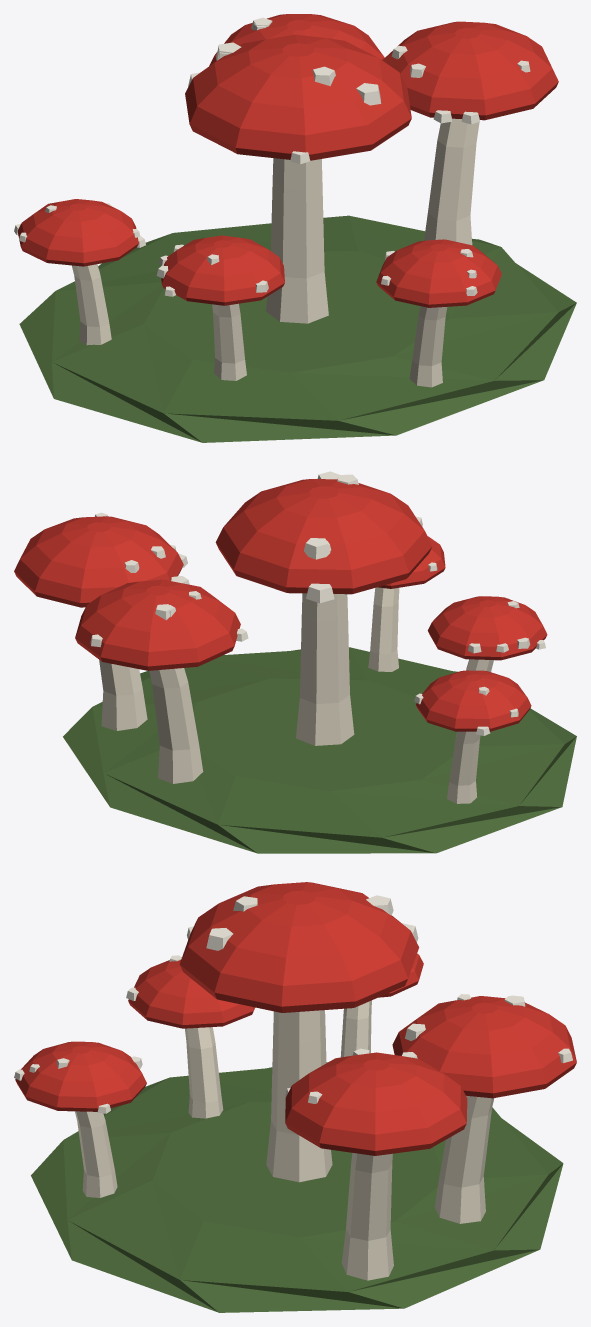
File: mushrooms.glb
The picture shows the model from 3 angles, top to bottom: view 1: azimuth 30°, elevation 25°; view 2: azimuth 150°, elevation 25°; view 3: azimuth 270°, elevation 25°; orthographic projection. The views are drawn at different scales.
Parts seen in each view (by area): view 1: ground, cap, stem, spots; view 2: ground, cap, stem, spots; view 3: ground, cap, stem, spots.
Part boxes in pixels (<box>): ground: <box>19,215,576,442</box>; cap: <box>17,14,558,307</box>; stem: <box>71,118,479,387</box>; spots: <box>14,17,530,296</box>; ground: <box>63,647,576,853</box>; cap: <box>14,479,547,731</box>; stem: <box>99,587,493,803</box>; spots: <box>90,471,545,735</box>; ground: <box>31,1062,563,1312</box>; cap: <box>15,882,576,1155</box>; stem: <box>75,1000,494,1280</box>; spots: <box>14,895,572,1113</box>.
Bounding box in the file's own units: 0.6944 × 0.35 × 0.608.
